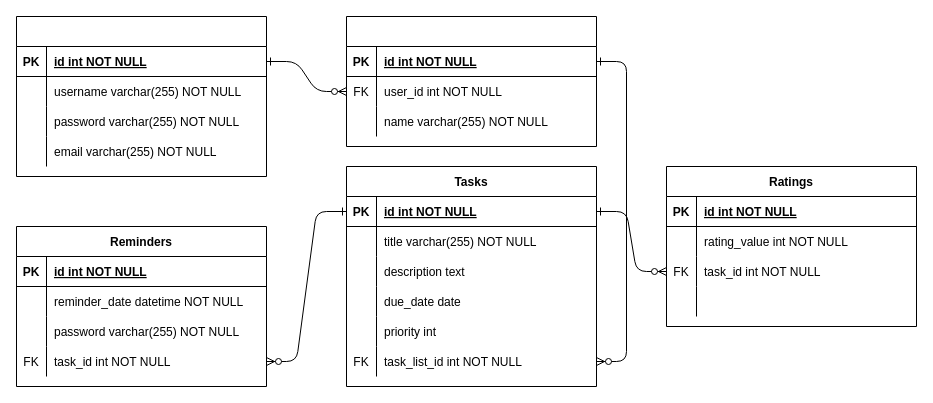
The diagram is 933 pixels wide and 403 high, and some of its shapes have lost their labels. Each missing label, with the box of its shape:
TaskLists: (346, 16, 596, 146)
Users: (16, 16, 266, 176)
